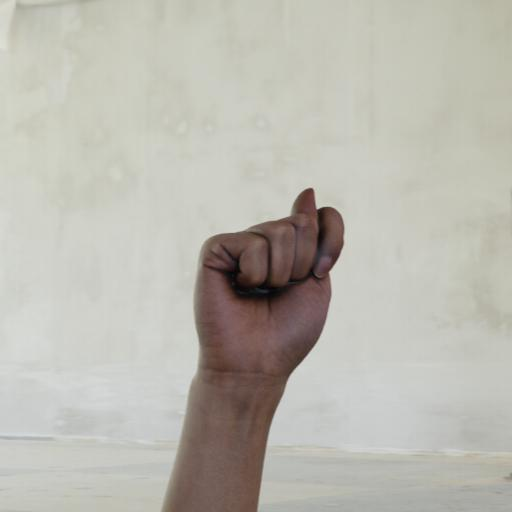T: (139, 160, 391, 405)
